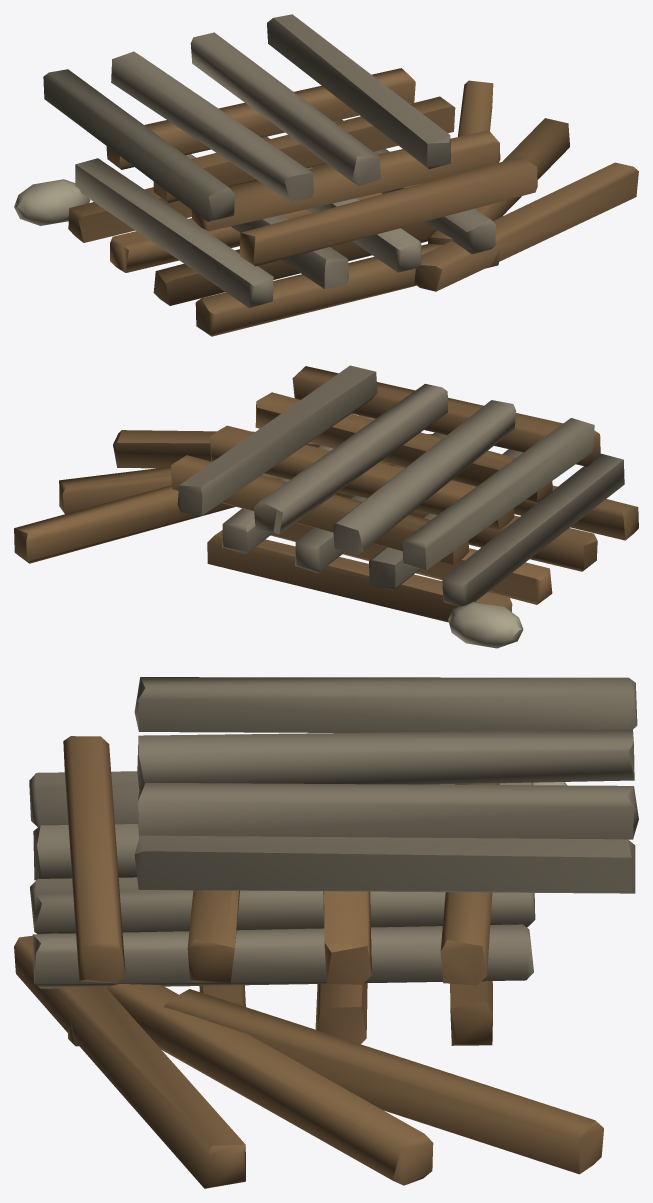
Rendered from lagging_stack_b_lod1.glb.
3 renders of one model, top to bottom at view 1: azimuth 30°, elevation 25°; view 2: azimuth 150°, elevation 25°; view 3: azimuth 270°, elevation 25°, orthographic. The views are drawn at different scales.
Parts seen in each view (by area): view 1: Surface.001; view 2: Surface.001; view 3: Surface.001.
Part boxes in pixels (left/top/right/bottom): Surface.001: left=14, top=14, right=638, bottom=336; Surface.001: left=14, top=365, right=638, bottom=648; Surface.001: left=14, top=677, right=638, bottom=1188.
Bounding box in the file's own units: 3.48 × 0.8507 × 2.48.
